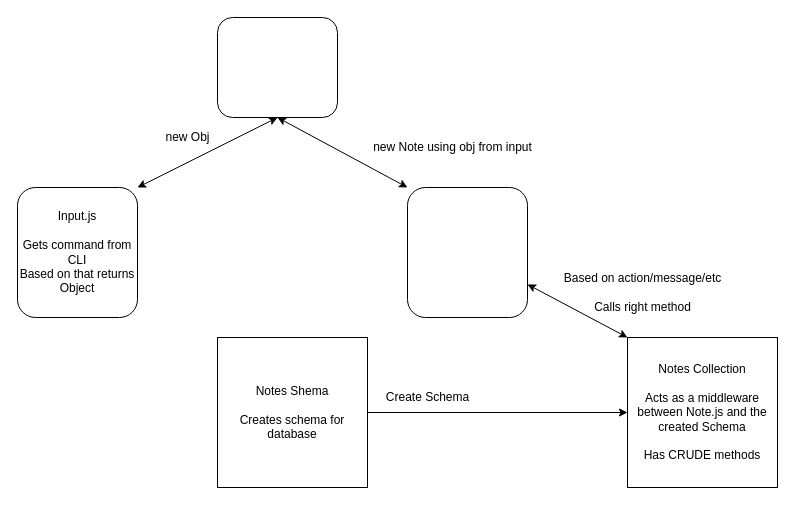
The diagram is 795 pixels wide and 505 high, and some of its shapes have lost their labels. The shapes that lost their labels are listed below. From the top down, each one's centre as x and y in pixels, then its label:
At pixel 277 67: "Index.js Starts Mongoose server Requires both modules".
At pixel 467 252: "Notes.js Based on Obj from input, executes an action using collection.js".
